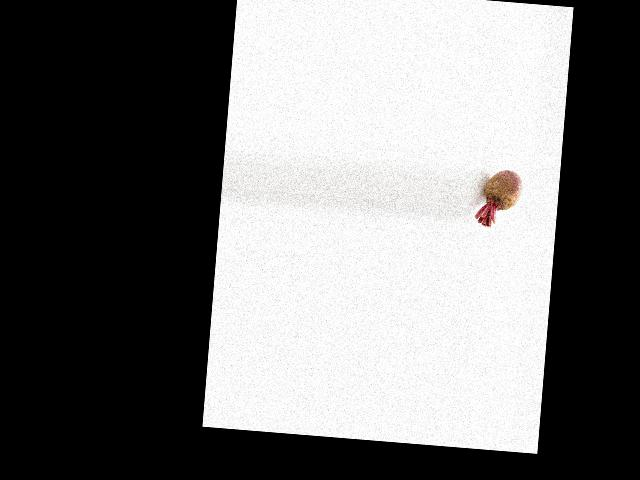beet: (473, 167, 523, 229)
